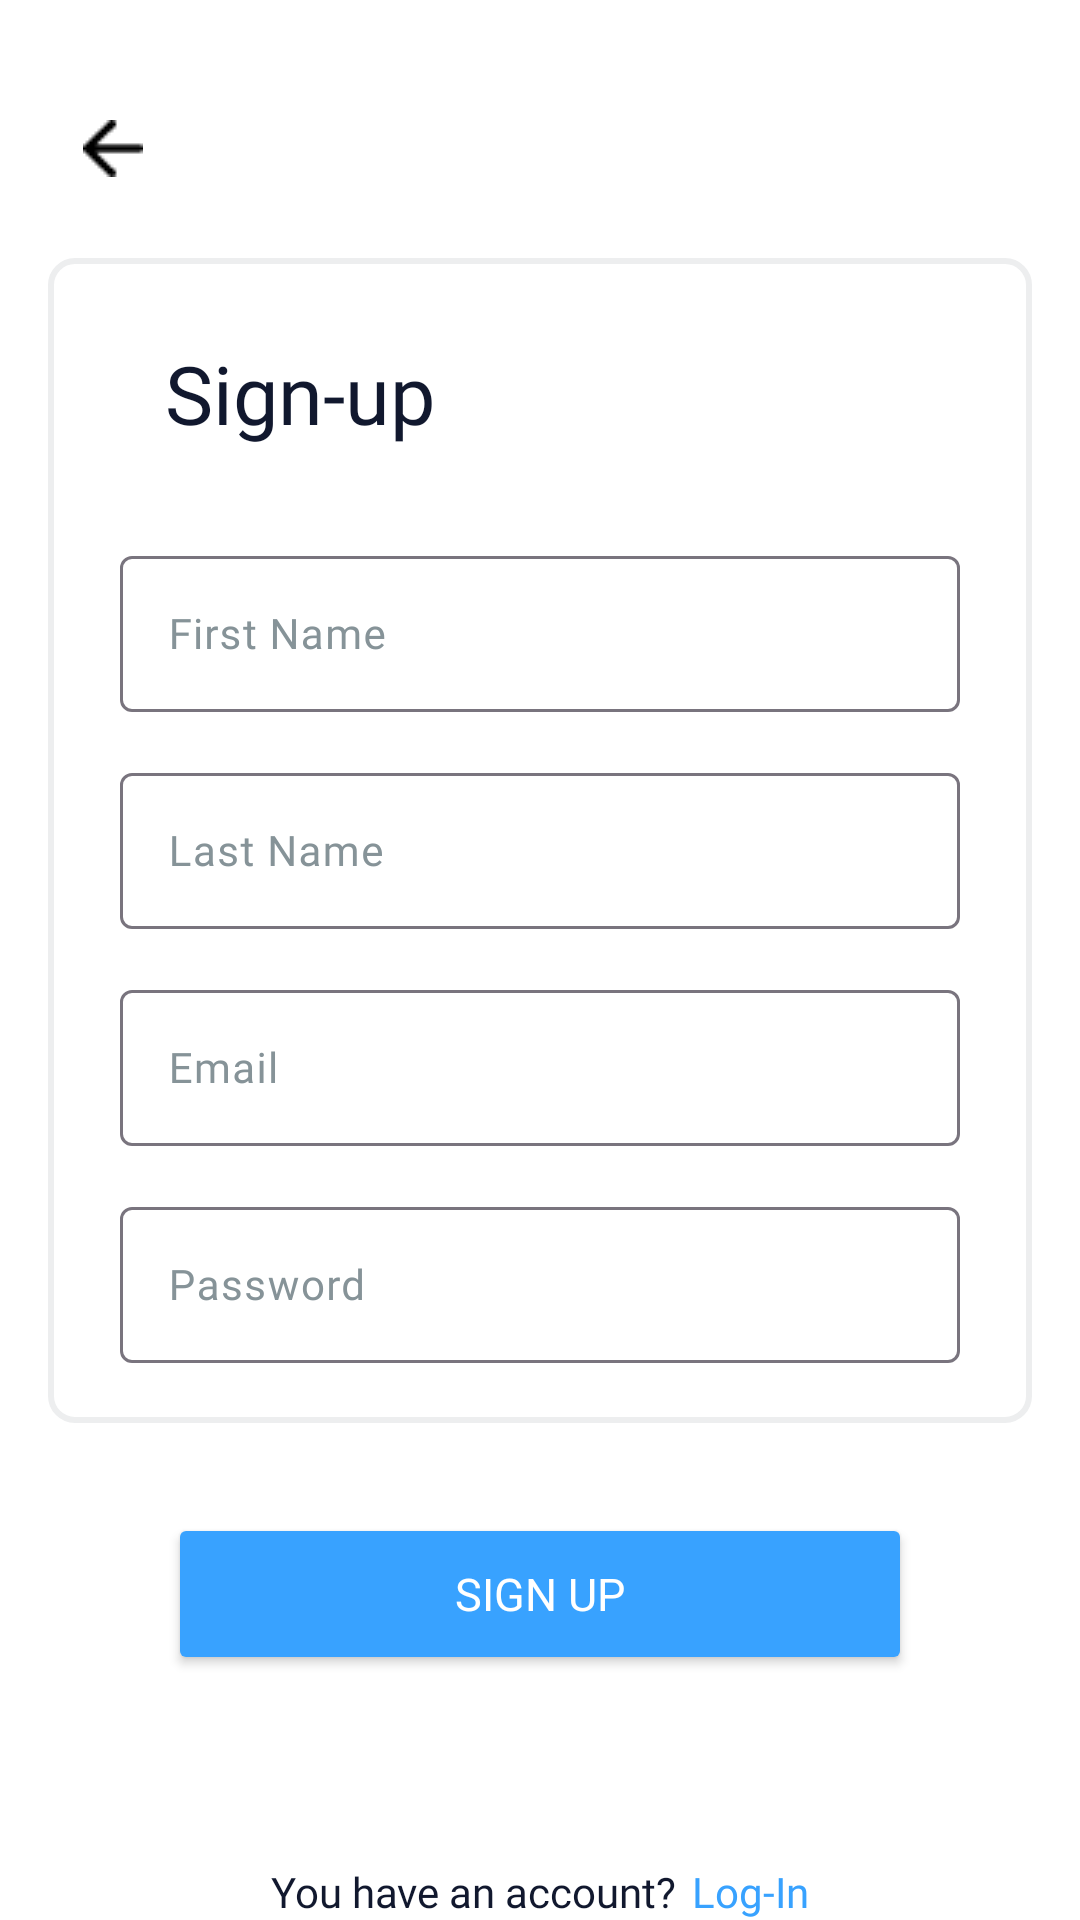

Named icons in this screenshot (1080px×1920px) and their bounding boxes, {"x1": x1, "y1": y1, "x2": x2, "y2": y2}:
back: {"x1": 83, "y1": 120, "x2": 143, "y2": 177}
